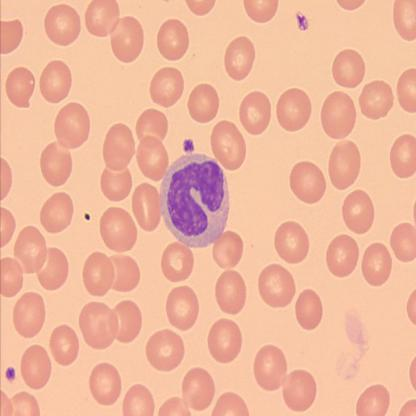Monocyte: (158, 153, 232, 250)
